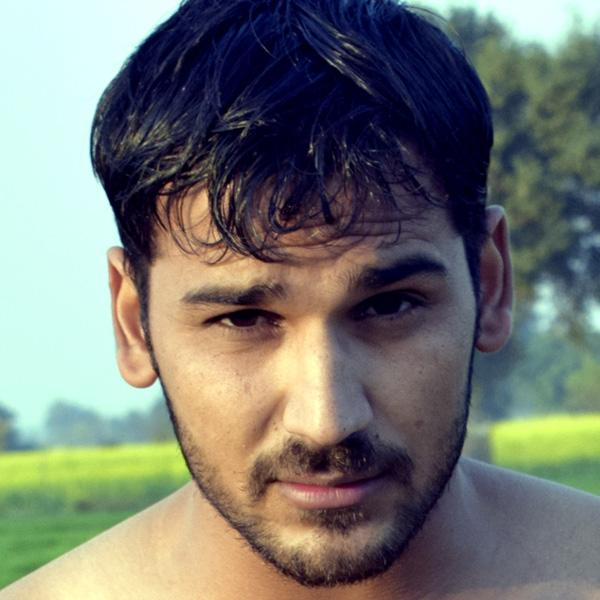Eyes: (193, 298, 294, 350), (345, 278, 433, 332)
